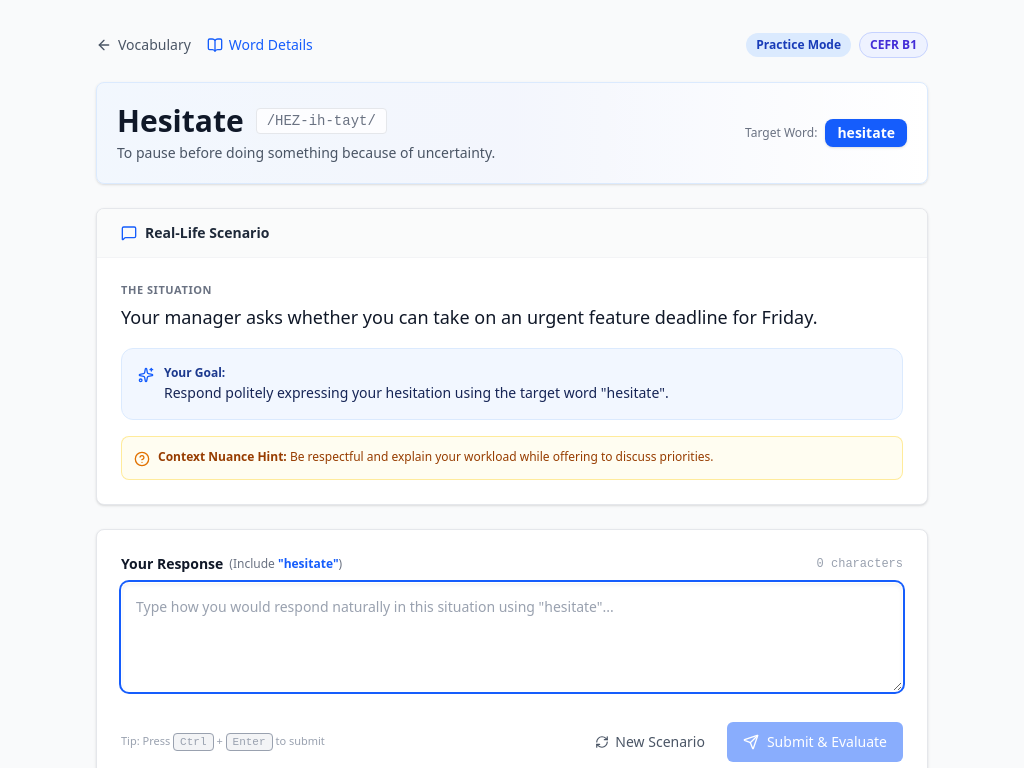
PracticePage › allows user to type response and submit for AI evaluation
This screenshot has width=1024, height=768.
Type "I would hesitate to take this on because my backlog is full." into the text box. click: (512, 637)
box: [121,582,903,692]
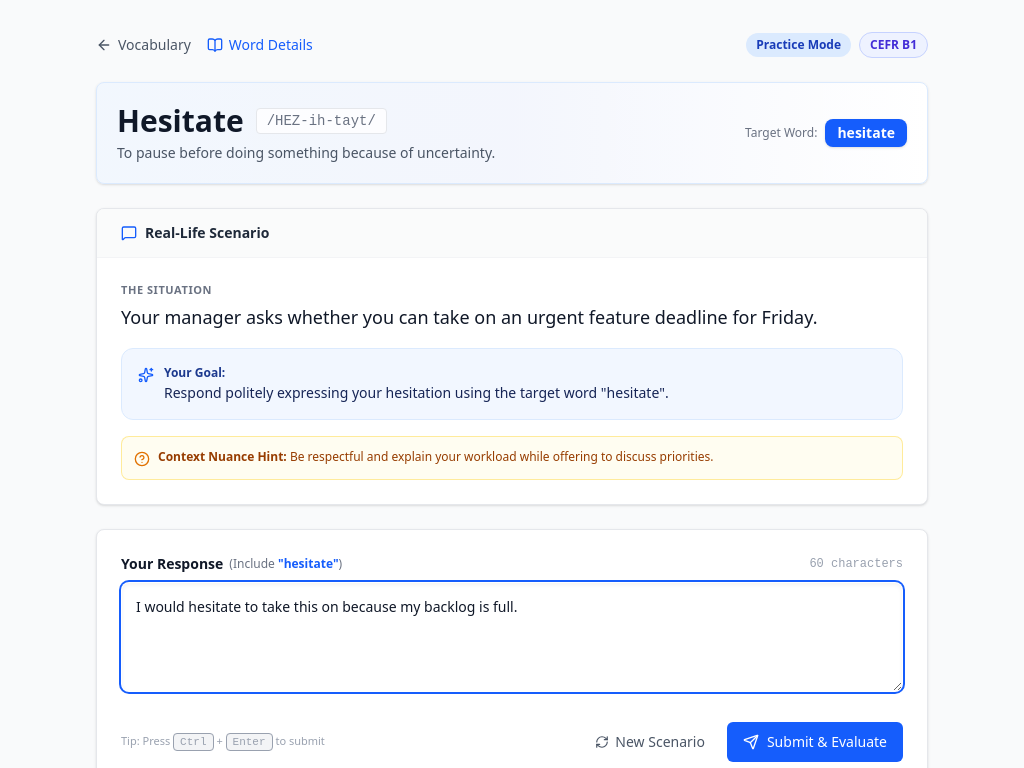
Click the button "Submit & Evaluate". click: (815, 742)
box: [727,722,903,762]
(page scrolled)
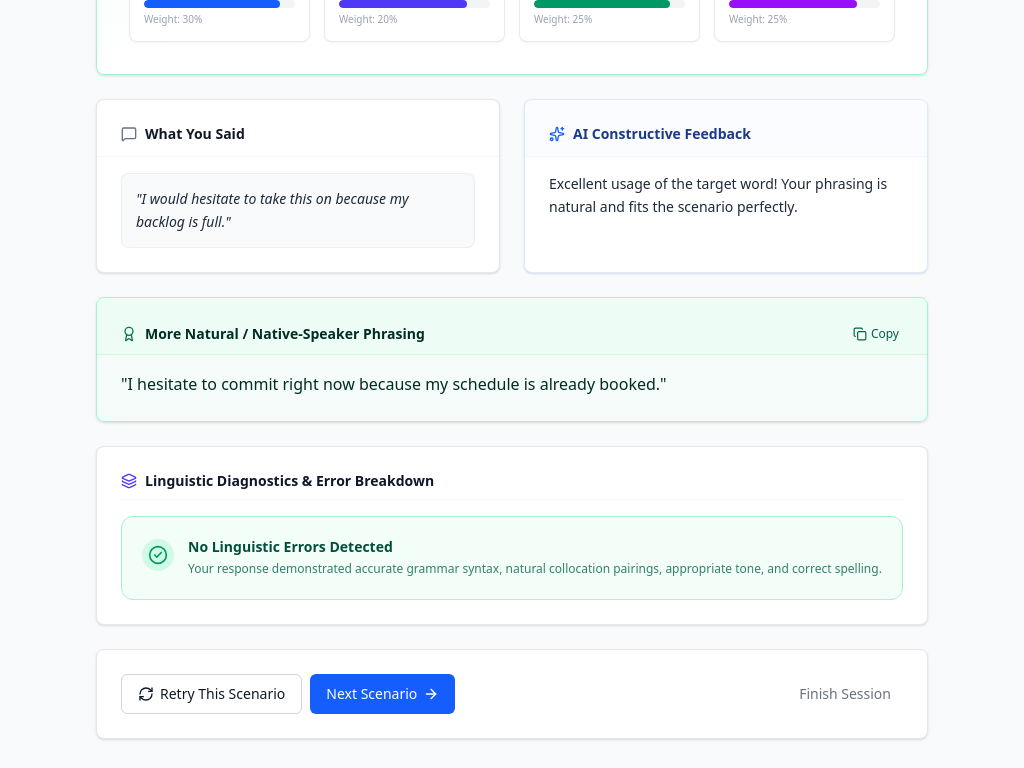
Check: the text "Excellent usage of the target word! Your phrasing is natural and fits the scenario perfectly." is shown, box [549,174,887,216]
